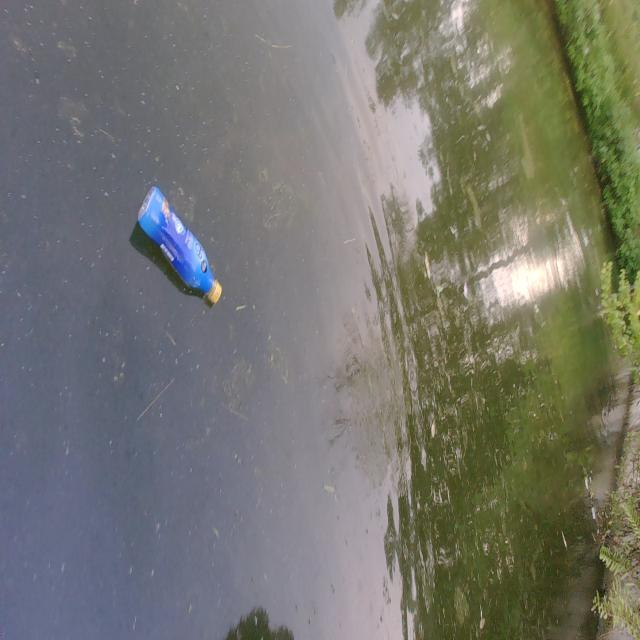garbage: (137, 185, 223, 307)
